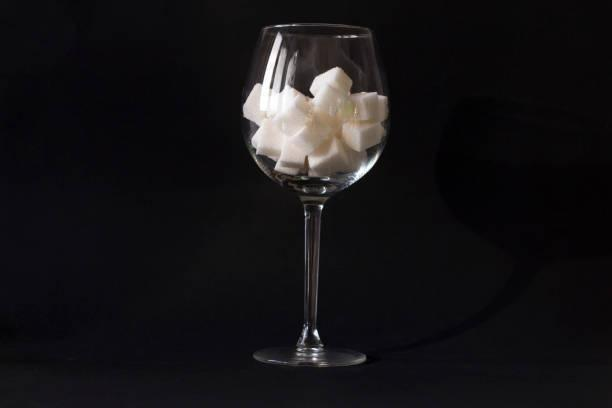glass-wine: (240, 23, 390, 368)
